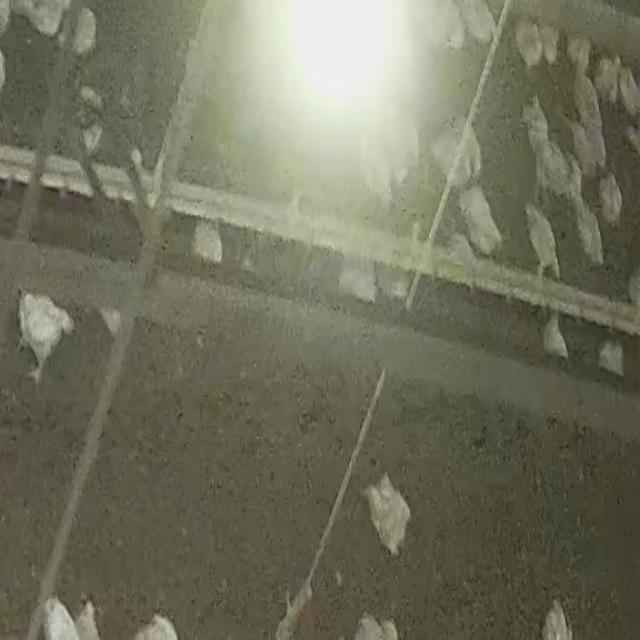chicken: (16, 290, 74, 380), (362, 471, 412, 557), (429, 117, 486, 191), (538, 146, 585, 206), (464, 178, 500, 255), (524, 198, 561, 270), (565, 112, 600, 176), (520, 95, 556, 152), (592, 172, 634, 220), (575, 203, 606, 265), (456, 0, 496, 46), (571, 72, 602, 120), (514, 15, 543, 66), (542, 315, 571, 362), (592, 56, 619, 105), (617, 65, 640, 116)
